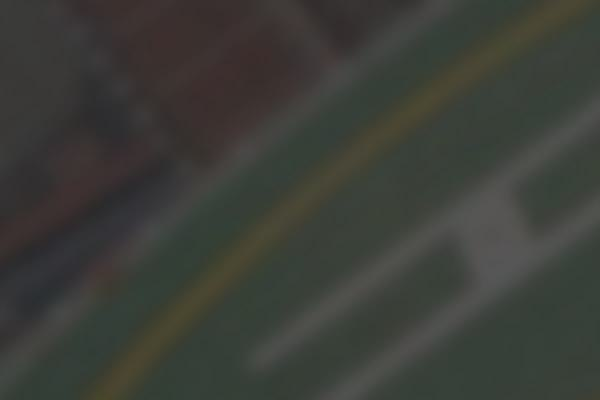Apron: (66, 1, 600, 400)
